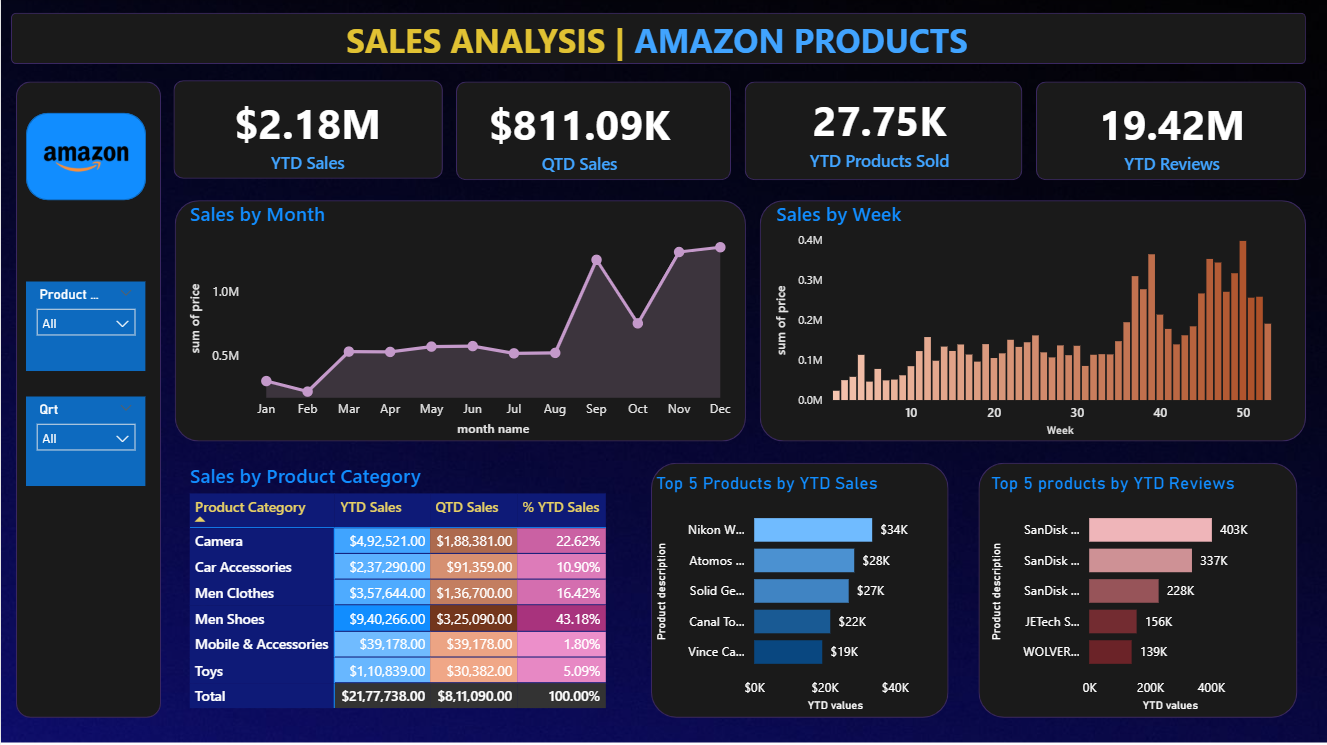

What the dashboard file says about the page in this screenshot:
{"tool":"powerbi","page":{"name":"Page 1","canvas":[1280,720],"ordinal":0},"visuals":[{"type":"shape","box":[9.7,13.3,1249.9,49.5],"z":0},{"type":"textbox","box":[326.9,13.3,624.9,55.5],"z":1000},{"type":"shape","box":[14.5,79.6,139.9,614.1],"z":2000},{"type":"shape","box":[166.5,78.4,260,95],"z":3000},{"type":"card","fields":{"Values":["Amazon_Data.YTD Sales"]},"box":[166.5,82,259.4,95.3],"z":4000},{"type":"shape","box":[167.7,194.2,551.3,232.8],"z":5000},{"type":"shape","box":[439.1,79.6,265.4,95.3],"z":6000},{"type":"shape","box":[717.8,79.6,267.8,95.3],"z":7000},{"type":"shape","box":[998.9,79.6,260.6,95.3],"z":8000},{"type":"card","fields":{"Values":["Amazon_Data.QTD Sales"]},"box":[425.9,83.2,265.4,95.3],"z":9000},{"type":"card","fields":{"Values":["Amazon_Data.YTD Products Sold"]},"box":[715.4,79.6,265.4,95.3],"z":10000},{"type":"card","fields":{"Values":["Amazon_Data.YTD Reviews"]},"box":[985.7,83.2,265.4,95.3],"z":11000},{"type":"areaChart","title":" Sales by Month ","fields":{"Category":["Date Table.Month Name"],"Y":["Sum(Amazon_Data.Price(Dollar))"]},"box":[177.3,194.2,538.1,232.8],"z":12000},{"type":"shape","box":[732.3,194.2,527.2,232.8],"z":13000},{"type":"columnChart","title":"Sales by Week","fields":{"Category":["Date Table.Week"],"Y":["Sum(Amazon_Data.Price(Dollar))"]},"box":[743.2,194.2,507.9,232.8],"z":14000},{"type":"pivotTable","title":"Sales by Product Category","fields":{"Rows":["Amazon_Data.Product Category"],"Values":["Amazon_Data.YTD Sales1","Amazon_Data.QTD Sales","Amazon_Data.YTD Sales"]},"box":[177.3,447.6,429.5,246.1],"z":15000},{"type":"shape","box":[627.3,447.6,287.1,246.1],"z":16000},{"type":"shape","box":[943.4,447.6,307.6,246.1],"z":17000},{"type":"clusteredBarChart","title":"Top 5 Products by YTD Sales ","fields":{"Category":["Amazon_Data.Product Description"],"Y":["Amazon_Data.YTD Sales"]},"box":[627.1,456.9,275.8,236],"z":18000},{"type":"clusteredBarChart","title":"Top 5 products by YTD Reviews","fields":{"Category":["Amazon_Data.Product Description"],"Y":["Amazon_Data.YTD Reviews"]},"box":[950.9,456.9,275.8,236],"z":19000},{"type":"slicer","fields":{"Values":["Amazon_Data.Product Category"]},"box":[24.7,273.1,115.3,86.4],"z":20000},{"type":"slicer","fields":{"Values":["Date Table.Qrt"]},"box":[24.7,384.2,115.3,86.4],"z":21000},{"type":"shape","box":[24.1,109.8,115.8,84.5],"z":22000},{"type":"image","box":[24.1,109.8,115.8,84.5],"z":23000}]}

Visuals, with their boxes in screenshot pixels (x1, y1, x2, y2), scaled from the page's 1280x720 canvas onto the 1327x745 screenshot:
shape: Rect(10, 14, 1306, 65)
textbox: Rect(339, 14, 987, 71)
shape: Rect(15, 82, 160, 718)
shape: Rect(173, 81, 442, 179)
card - Amazon_Data.YTD Sales: Rect(173, 85, 442, 183)
shape: Rect(174, 201, 745, 442)
shape: Rect(455, 82, 730, 181)
shape: Rect(744, 82, 1022, 181)
shape: Rect(1036, 82, 1306, 181)
card - Amazon_Data.QTD Sales: Rect(442, 86, 717, 185)
card - Amazon_Data.YTD Products Sold: Rect(742, 82, 1017, 181)
card - Amazon_Data.YTD Reviews: Rect(1022, 86, 1297, 185)
" Sales by Month " areaChart: Rect(184, 201, 742, 442)
shape: Rect(759, 201, 1306, 442)
"Sales by Week" columnChart: Rect(770, 201, 1297, 442)
"Sales by Product Category" pivotTable: Rect(184, 463, 629, 718)
shape: Rect(650, 463, 948, 718)
shape: Rect(978, 463, 1297, 718)
"Top 5 Products by YTD Sales " clusteredBarChart: Rect(650, 473, 936, 717)
"Top 5 products by YTD Reviews" clusteredBarChart: Rect(986, 473, 1272, 717)
slicer - Amazon_Data.Product Category: Rect(26, 283, 145, 372)
slicer - Date Table.Qrt: Rect(26, 398, 145, 487)
shape: Rect(25, 114, 145, 201)
image: Rect(25, 114, 145, 201)
